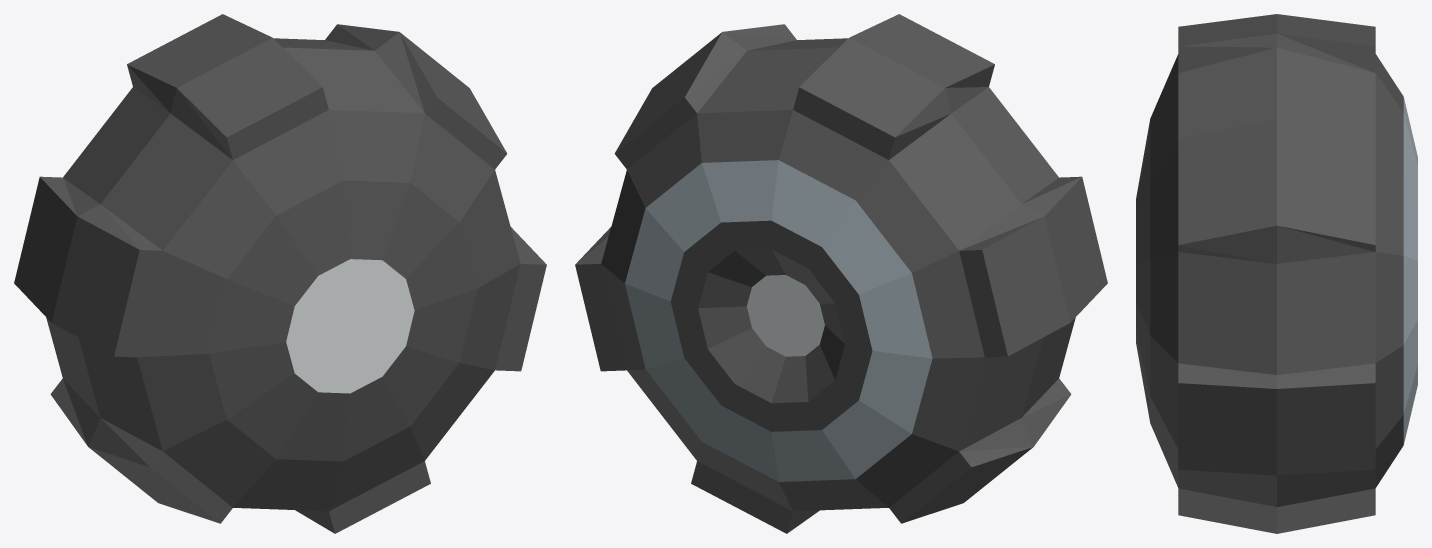
File: wheel.gltf
3 renders of one model, left to right at view 1: azimuth 30°, elevation 25°; view 2: azimuth 150°, elevation 25°; view 3: azimuth 270°, elevation 25°, orthographic.
Visible parts, largest first — view 1: group1085046267; view 2: group1085046267; view 3: group1085046267.
Boxes of the visible parts, left/top/right/bottom form: group1085046267: left=14, top=14, right=546, bottom=533; group1085046267: left=575, top=14, right=1107, bottom=533; group1085046267: left=1136, top=14, right=1417, bottom=533.
Bounding box in the file's own units: 0.33 × 0.3278 × 0.1785.
